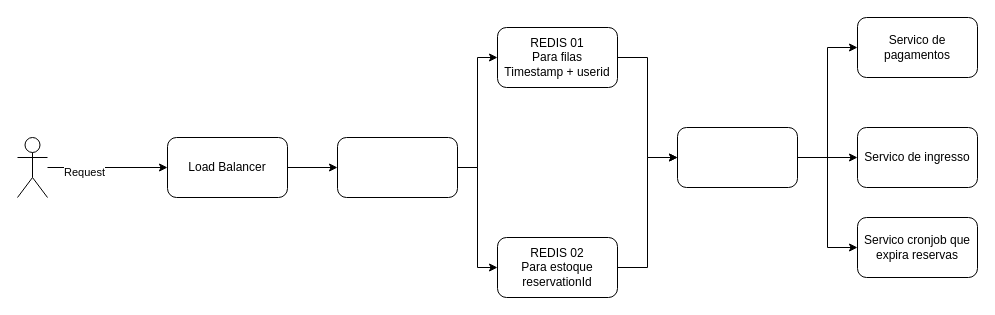
Some shapes in this 995 by 315 pixel diagram are drawn without their labels. The shapes that lost their labels are listed below. From the top down, each one's centre as x and y in pixels, then its label:
At point (32, 167): "Actor".
At point (397, 167): "API Gateway Auth + Criacao do token de fila".
At point (737, 157): "RabbitMQ event bus Topicos para usuario entrou na fila, reserva criada".
